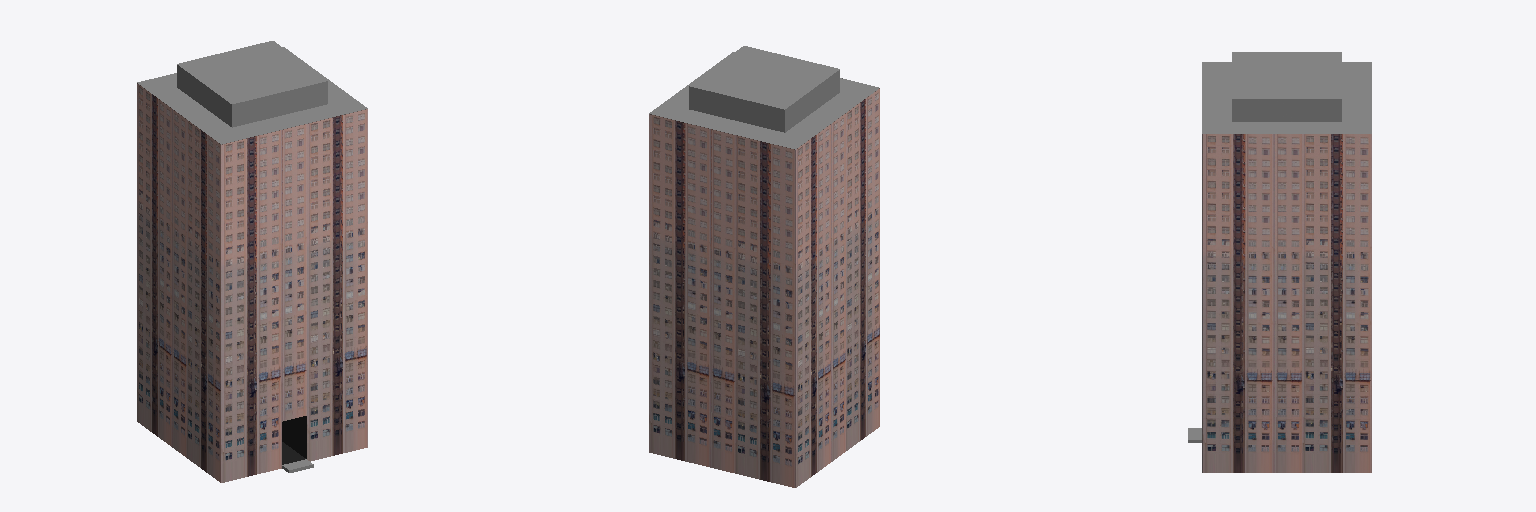
3 renders of one model, left to right at view 1: azimuth 30°, elevation 25°; view 2: azimuth 150°, elevation 25°; view 3: azimuth 270°, elevation 25°, orthographic.
Visible parts, largest first — view 1: Box001; view 2: Box001; view 3: Box001.
Boxes of the visible parts, x1,y1,x2,y2 form: Box001: [137, 41, 367, 482]; Box001: [649, 46, 879, 487]; Box001: [1188, 52, 1371, 472].
Size of the model in its own units: 120 by 282 by 129.
Materials: 1 (1 with a texture image).